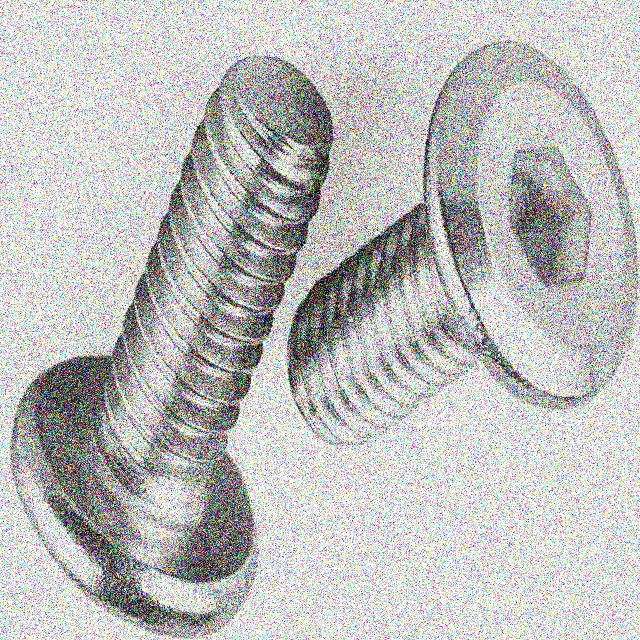allen: (507, 143, 594, 291)
